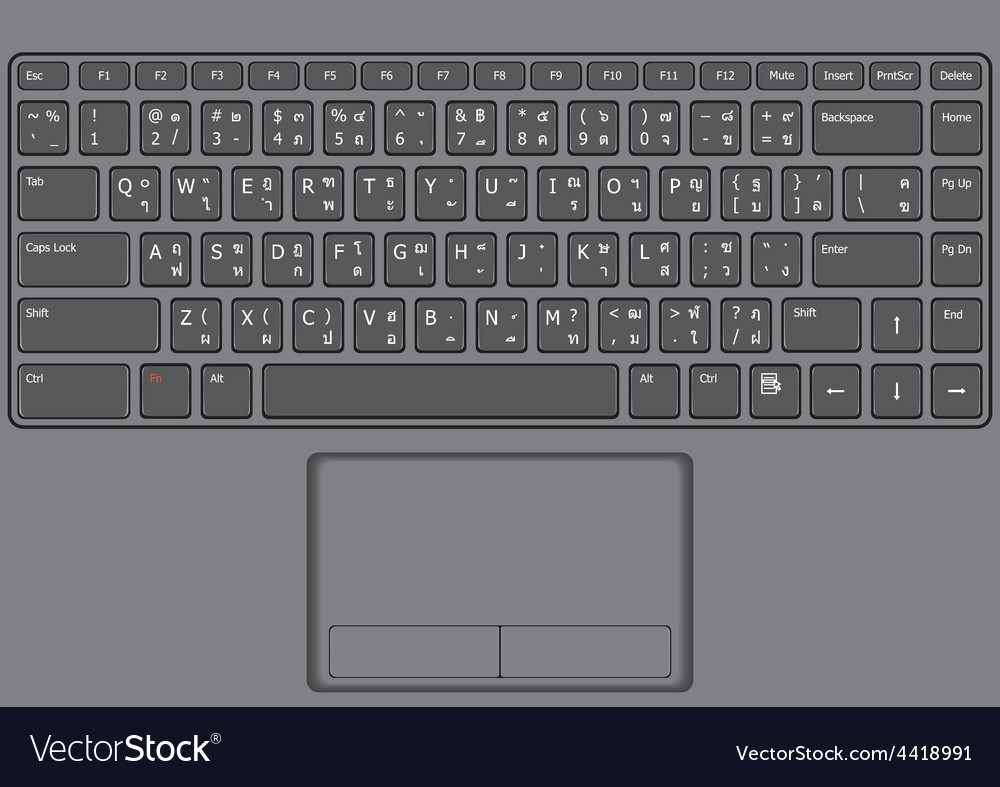keyboard: (10, 55, 993, 430)
